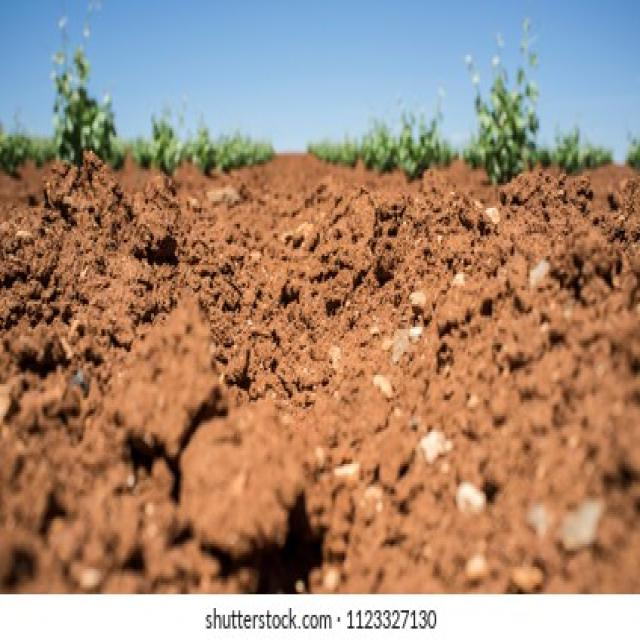Clay Soil: (31, 204, 610, 552)
